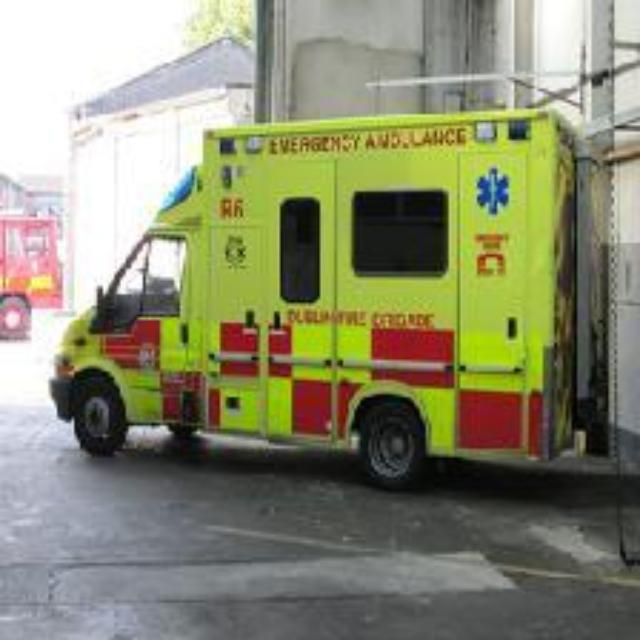emergency: (24, 109, 578, 491)
